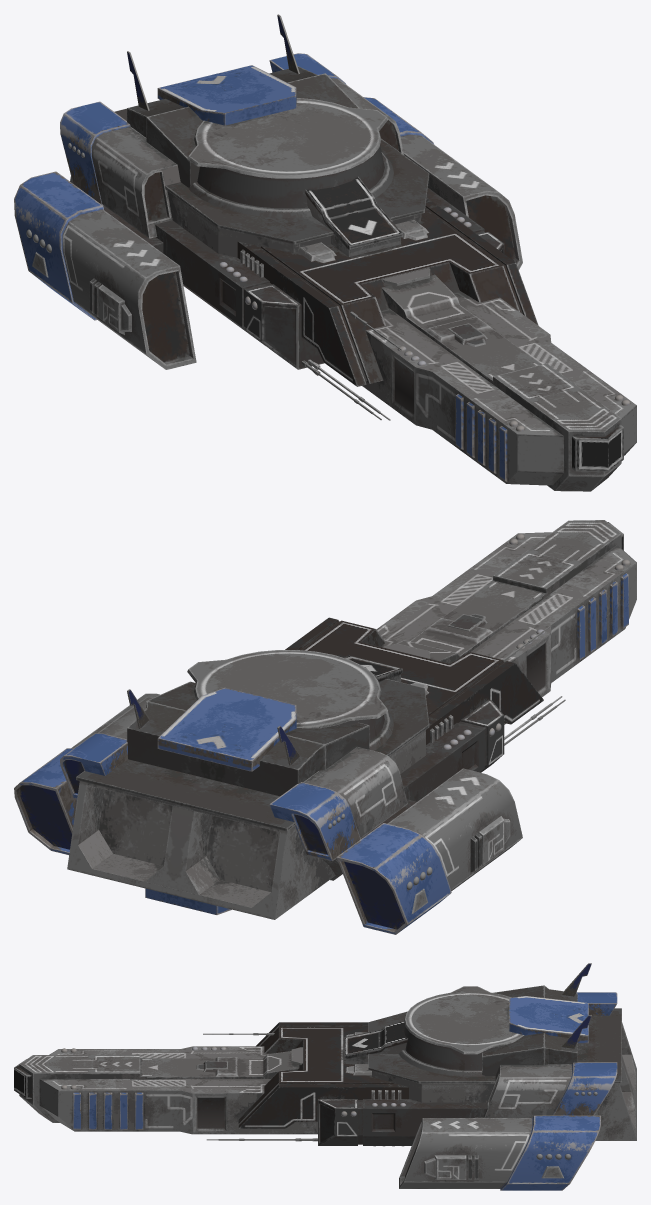
Rendered from Insurgent.glb.
3 renders of one model, top to bottom at view 1: azimuth 30°, elevation 25°; view 2: azimuth 150°, elevation 25°; view 3: azimuth 270°, elevation 25°, orthographic. The views are drawn at different scales.
Parts seen in each view (by area): view 1: Insurgent; view 2: Insurgent; view 3: Insurgent.
Boxes of the visible parts, left/top/right/bottom form: Insurgent: left=14, top=14, right=636, bottom=491; Insurgent: left=14, top=520, right=636, bottom=934; Insurgent: left=14, top=963, right=636, bottom=1190.
Size of the model in its own units: 5.57 by 2.87 by 10.95.
Materials: 1 (1 with a texture image).
